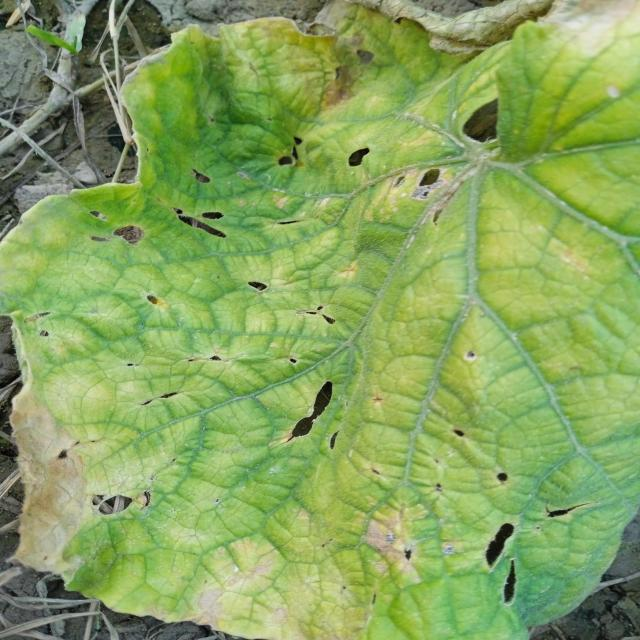cucumber_anthracnose: (72, 41, 576, 605)
